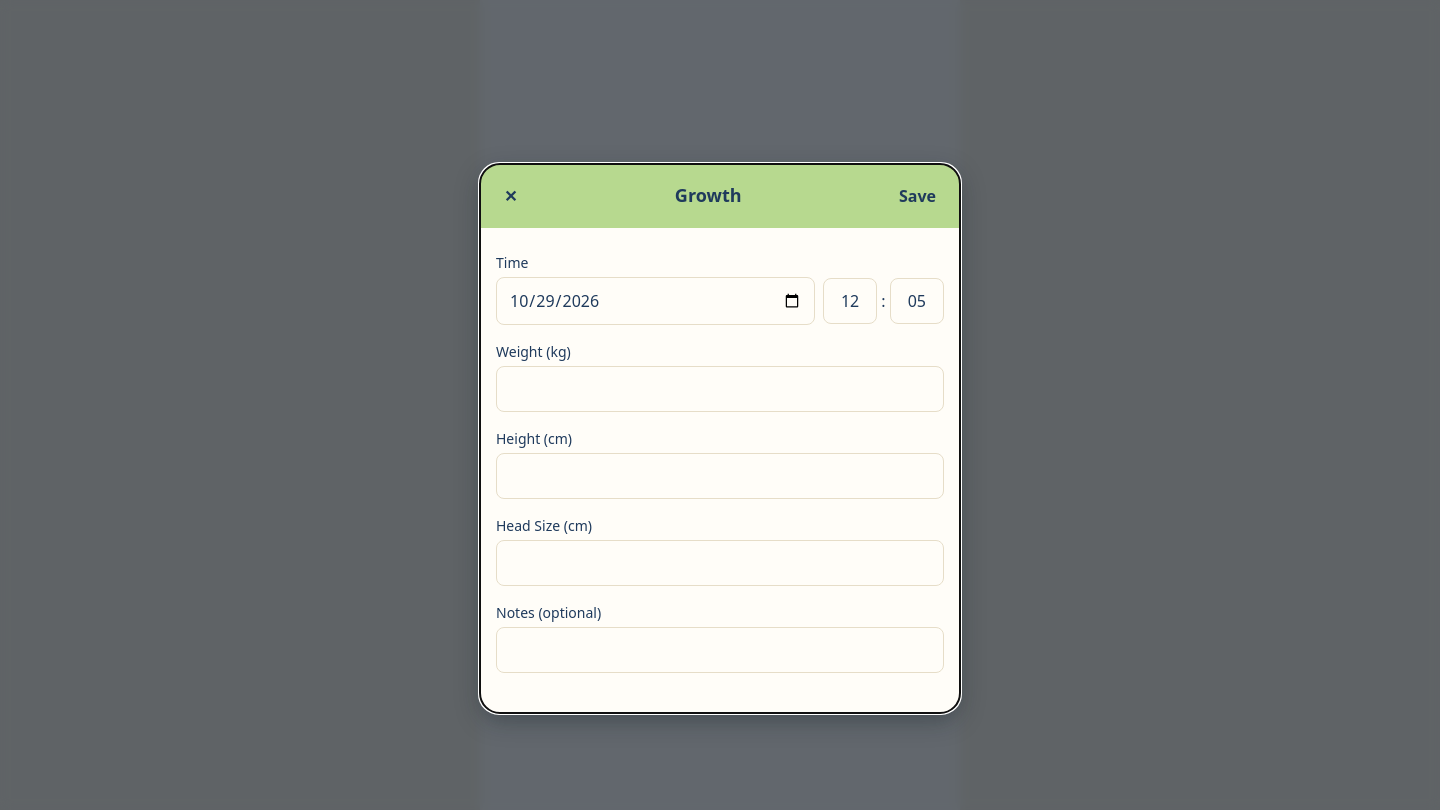
Test: GrowthForm › refuses a weight of 0 with a message under the field
The image size is (1440, 810).
Type "0" into the number field labelled "Weight (kg)" at (720, 389), box [496, 366, 944, 412]
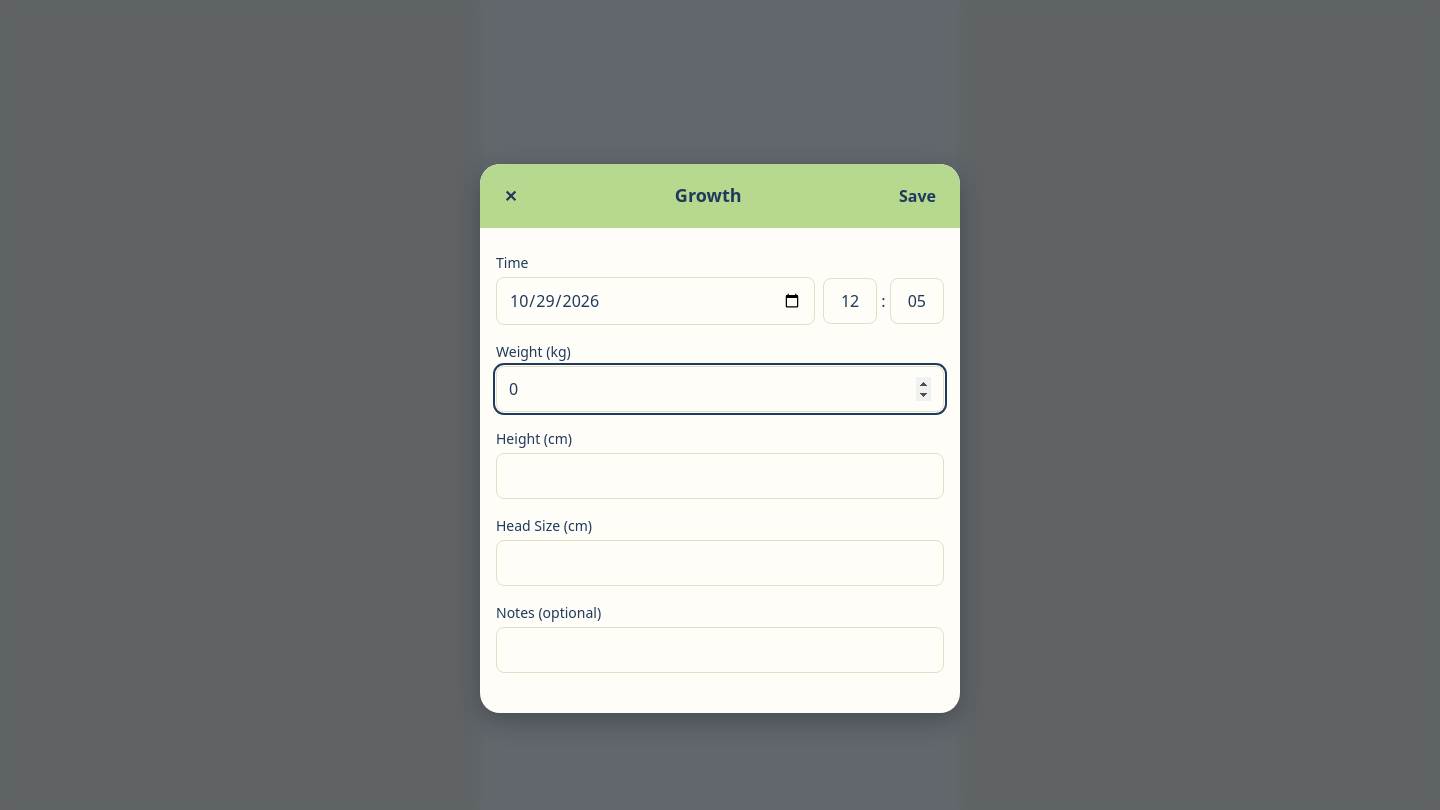
Click the button "Save" at (918, 196), box [891, 180, 944, 212]
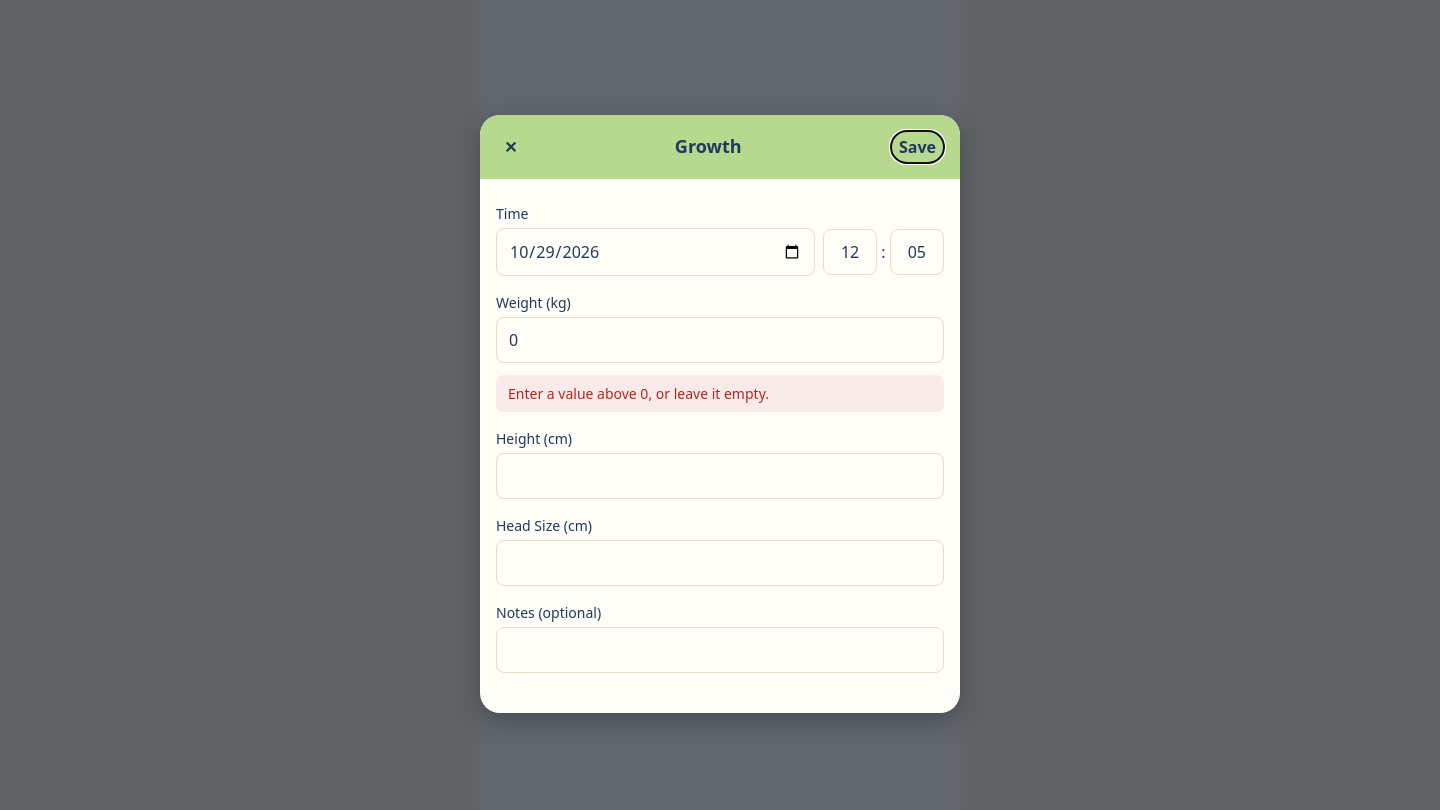
Expected: the message shows "Enter a value above 0", [508, 384, 769, 403]
